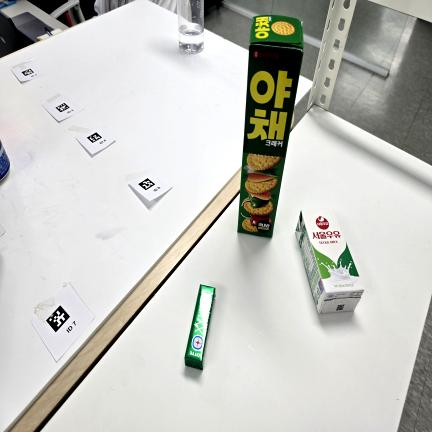cracker_vege: (238, 15, 303, 238)
gum_green: (185, 285, 215, 370)
milk_green: (295, 209, 364, 313)
